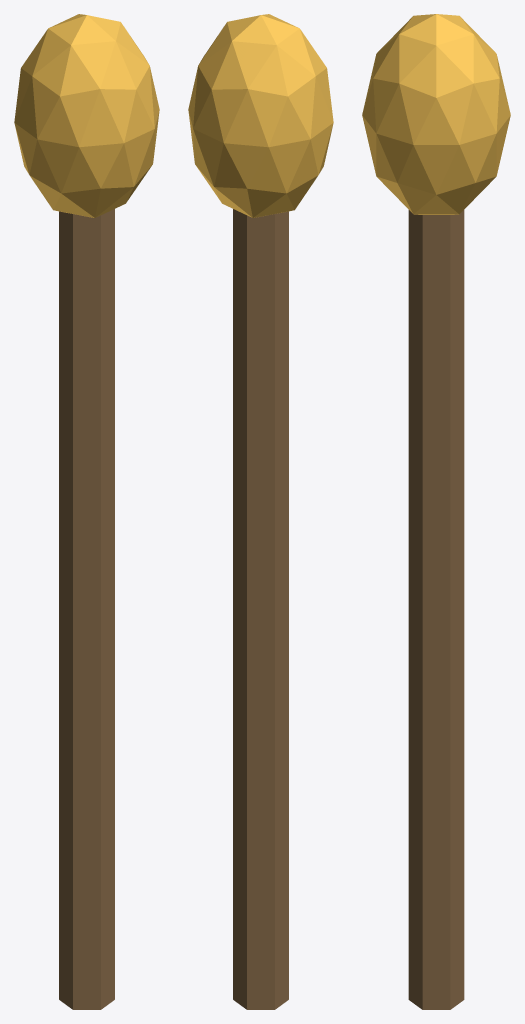
Rendered from wall_torch_1.glb.
The picture shows the model from 3 angles, left to right: view 1: azimuth 30°, elevation 25°; view 2: azimuth 150°, elevation 25°; view 3: azimuth 270°, elevation 25°; orthographic projection.
Visible parts, largest first — view 1: wall_torch_1_stick, wall_torch_1_flame; view 2: wall_torch_1_stick, wall_torch_1_flame; view 3: wall_torch_1_stick, wall_torch_1_flame.
Boxes of the visible parts, x1,y1,x2,y2 form: wall_torch_1_stick: [59, 209, 114, 1009]; wall_torch_1_flame: [14, 14, 159, 217]; wall_torch_1_stick: [233, 209, 288, 1009]; wall_torch_1_flame: [188, 14, 333, 217]; wall_torch_1_stick: [408, 210, 464, 1009]; wall_torch_1_flame: [362, 14, 510, 214].
Size of the model in its own units: 0.1522 by 1.17 by 0.16.
